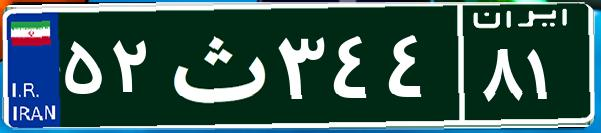1: (525, 38, 570, 115)
2: (110, 28, 158, 105)
3: (273, 28, 330, 110)
4: (385, 28, 445, 110), (330, 28, 385, 110)
5: (57, 26, 110, 107)
8: (475, 38, 525, 113)
ث: (158, 15, 273, 115)
